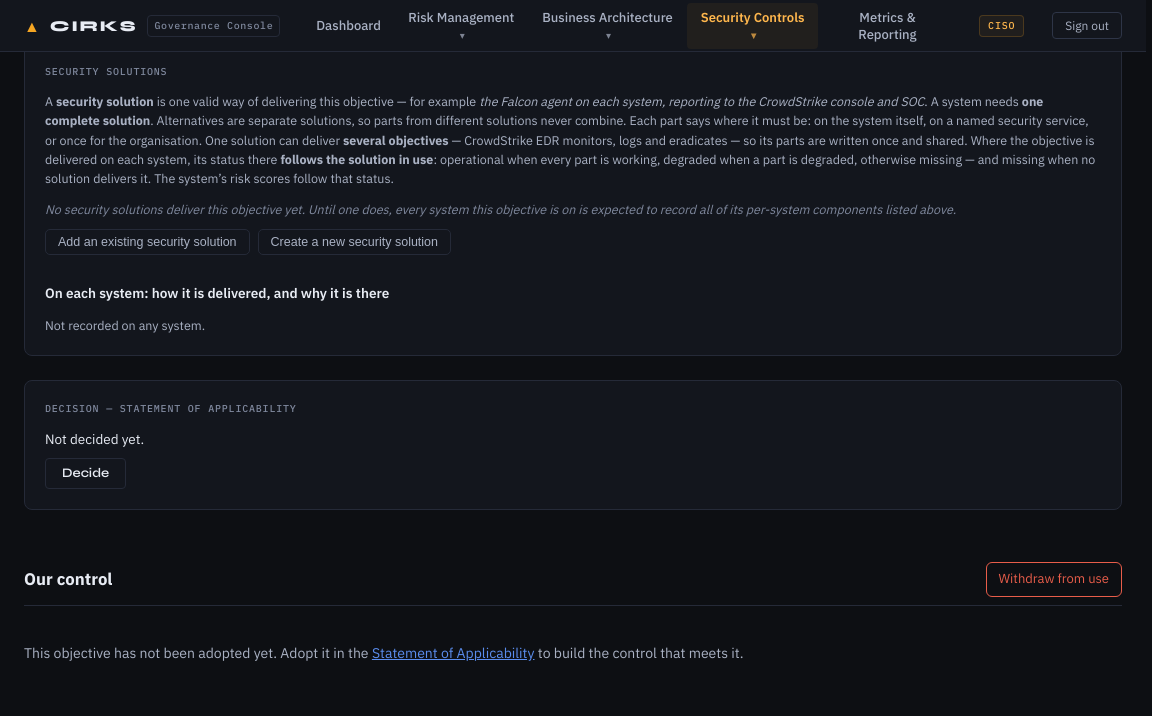
Test: the decision is made on the objective page › a failed save keeps what was typed — the lesson from the old inline editor
(page scrolled)
Click the button "Decide": (86, 474) left=45, top=458, right=126, bottom=489
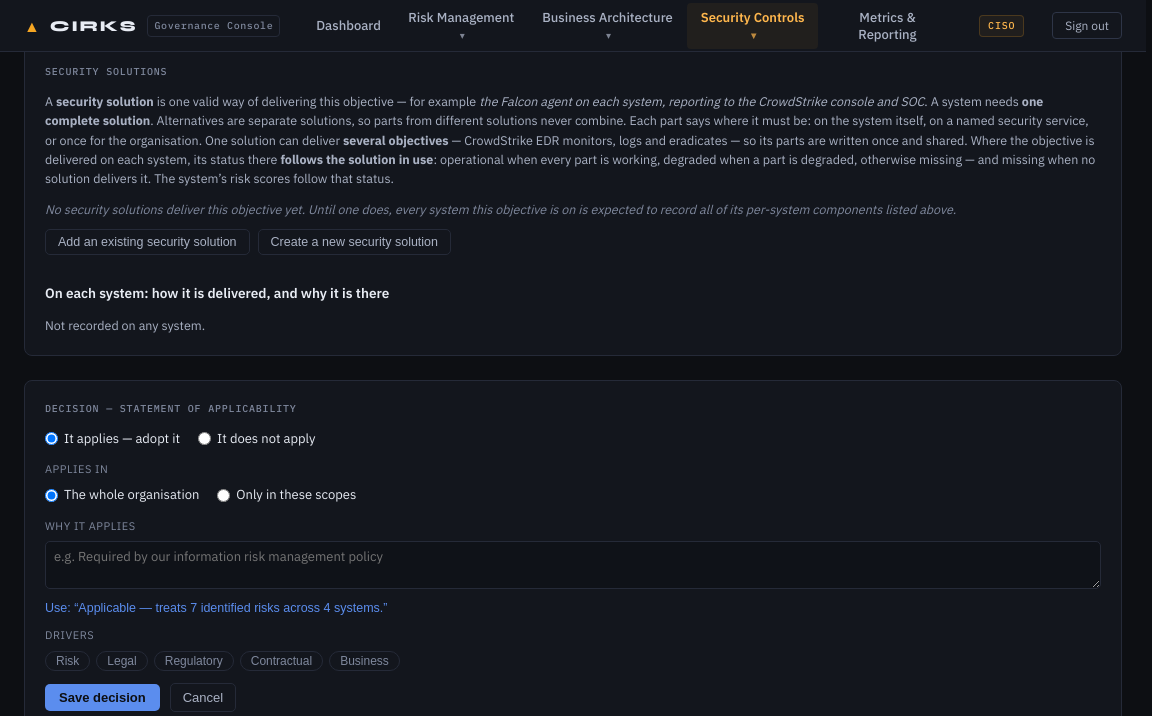
In the text box labelled "Why it applies": (573, 565) left=45, top=541, right=1101, bottom=589, type "Words I do not want to lose"
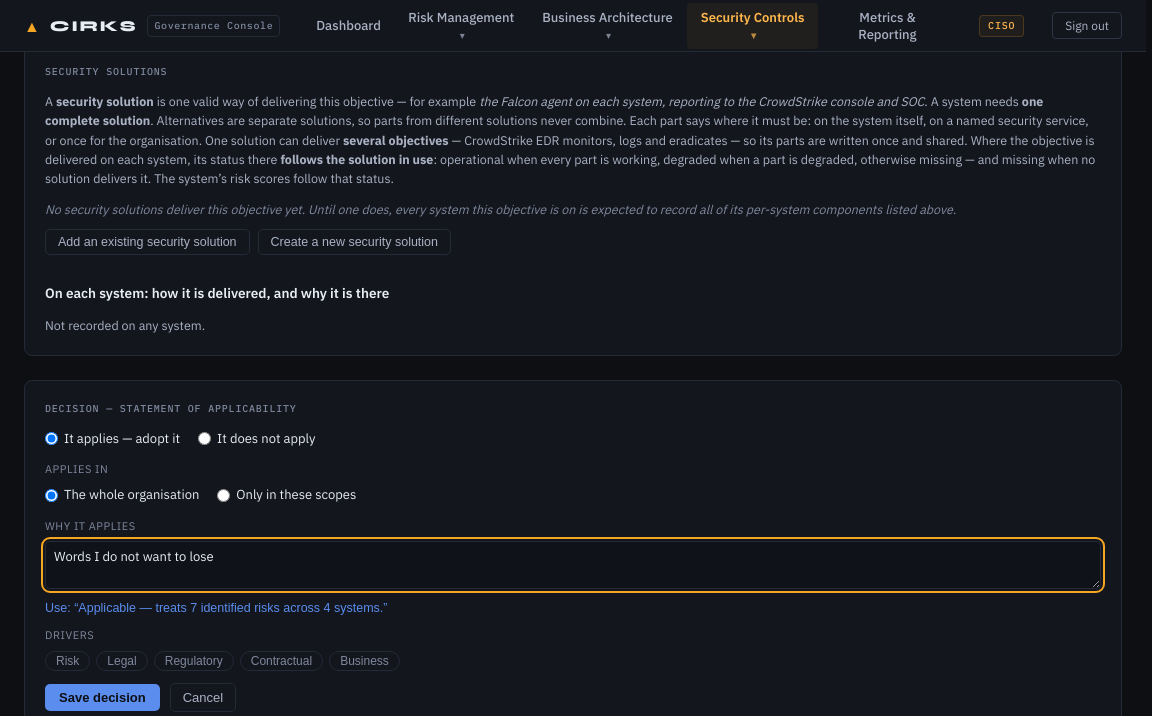
Click the button "Save decision": (102, 697) left=45, top=684, right=160, bottom=711
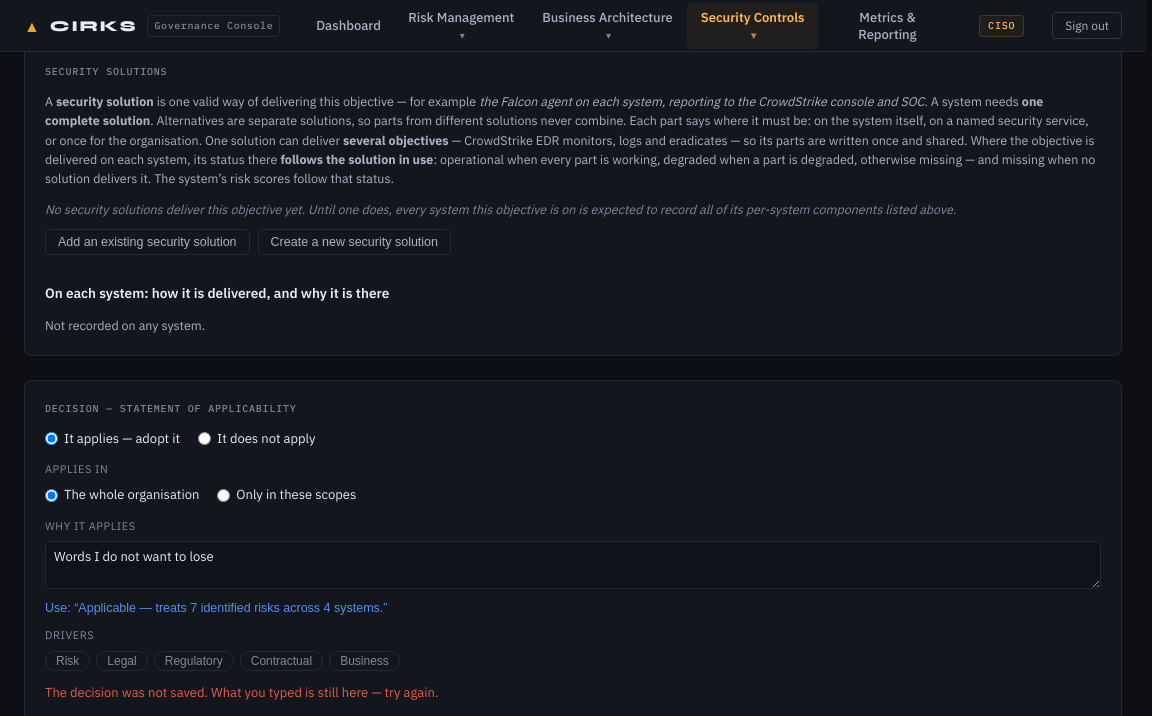
Result: the message shows "still here" at left=45, top=684, right=438, bottom=701
